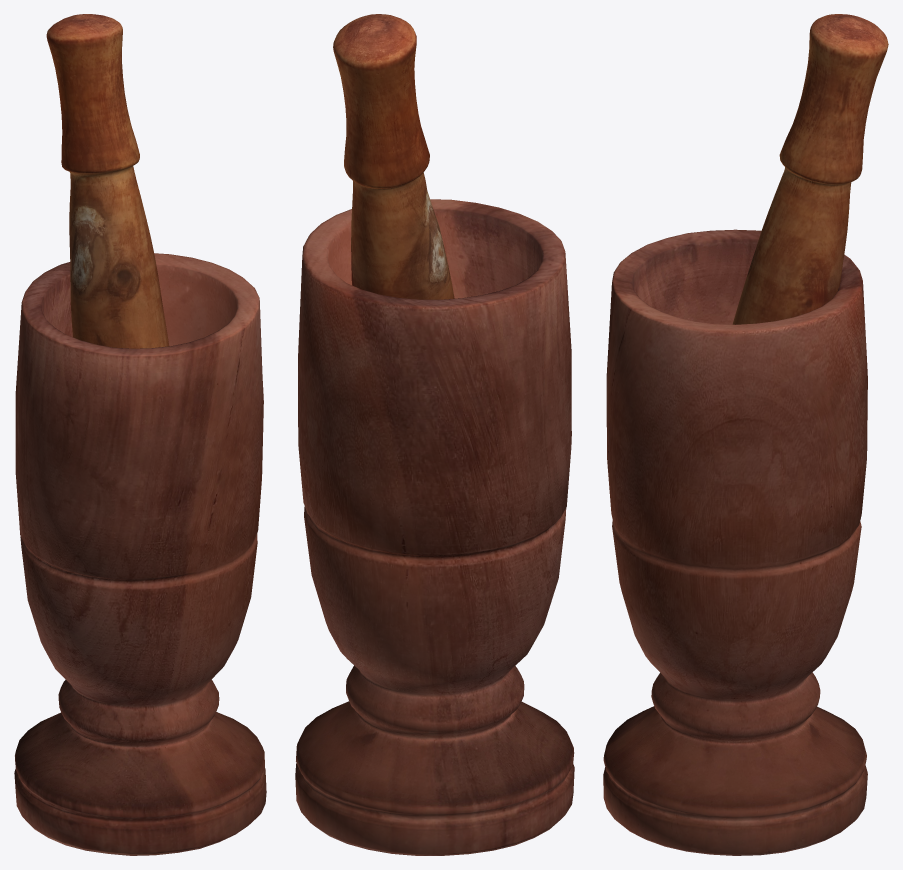
The model's file is PotCremaillère.fbx.
3 renders of one model, left to right at view 1: azimuth 30°, elevation 25°; view 2: azimuth 150°, elevation 25°; view 3: azimuth 270°, elevation 25°, orthographic. The views are drawn at different scales.
Parts seen in each view (by area): view 1: Vase, Stick; view 2: Vase, Stick; view 3: Vase, Stick.
Boxes of the visible parts, x1,y1,x2,y2 form: Vase: [14, 253, 266, 855]; Stick: [46, 14, 169, 348]; Vase: [295, 199, 574, 855]; Stick: [333, 14, 454, 299]; Vase: [603, 229, 867, 855]; Stick: [732, 14, 888, 324].
Bounding box in the file's own units: 12.48 × 40.64 × 13.41.
2 materials, 2 textured.
